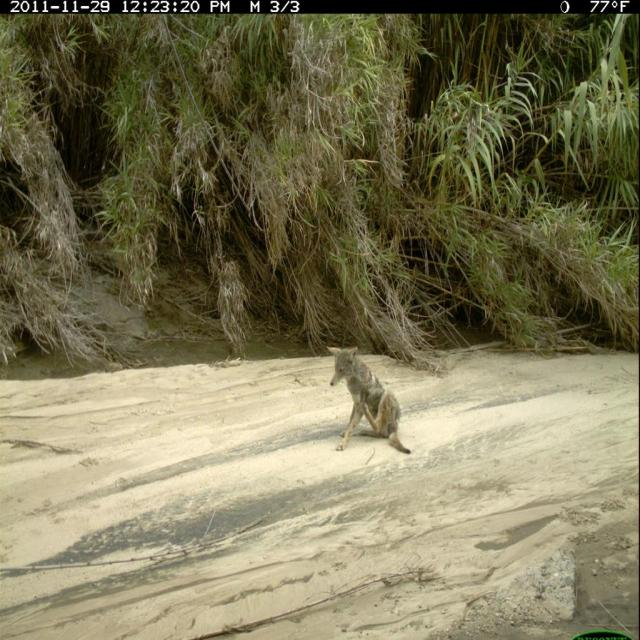coyote: (323, 342, 416, 460)
